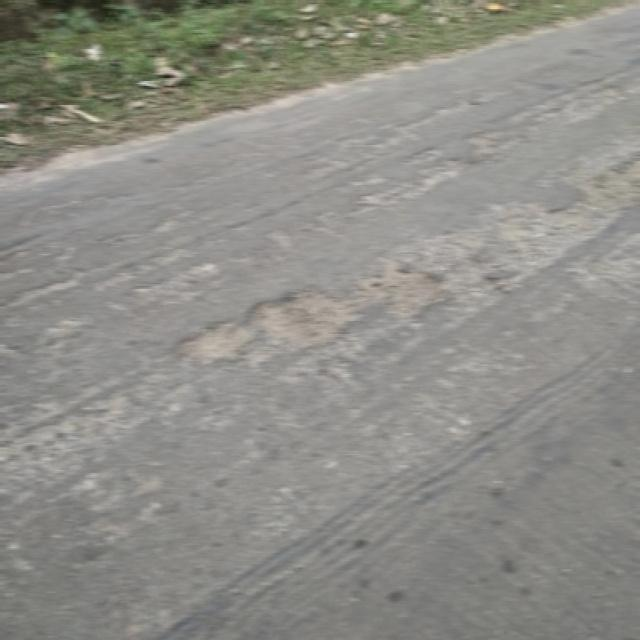Pothole: (139, 236, 450, 382), (522, 154, 640, 288)
